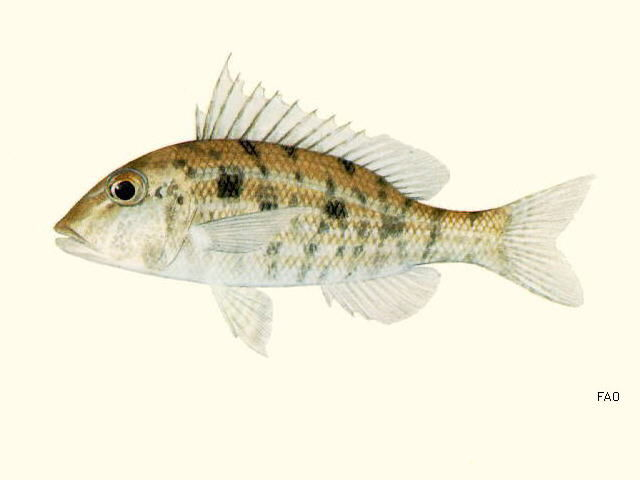fish: (52, 53, 596, 359)
